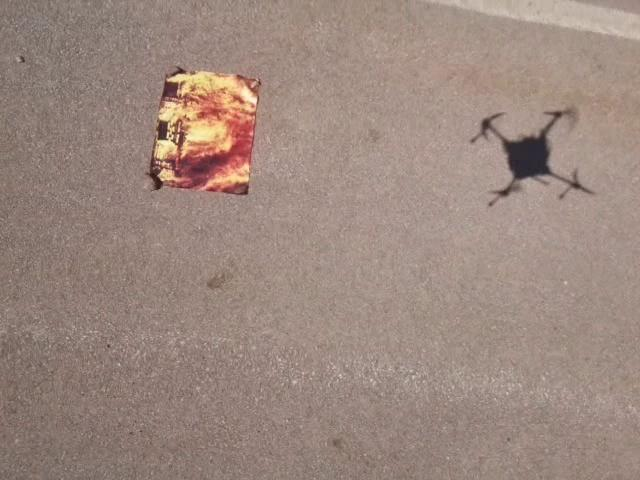fire-poster: (146, 66, 262, 198)
